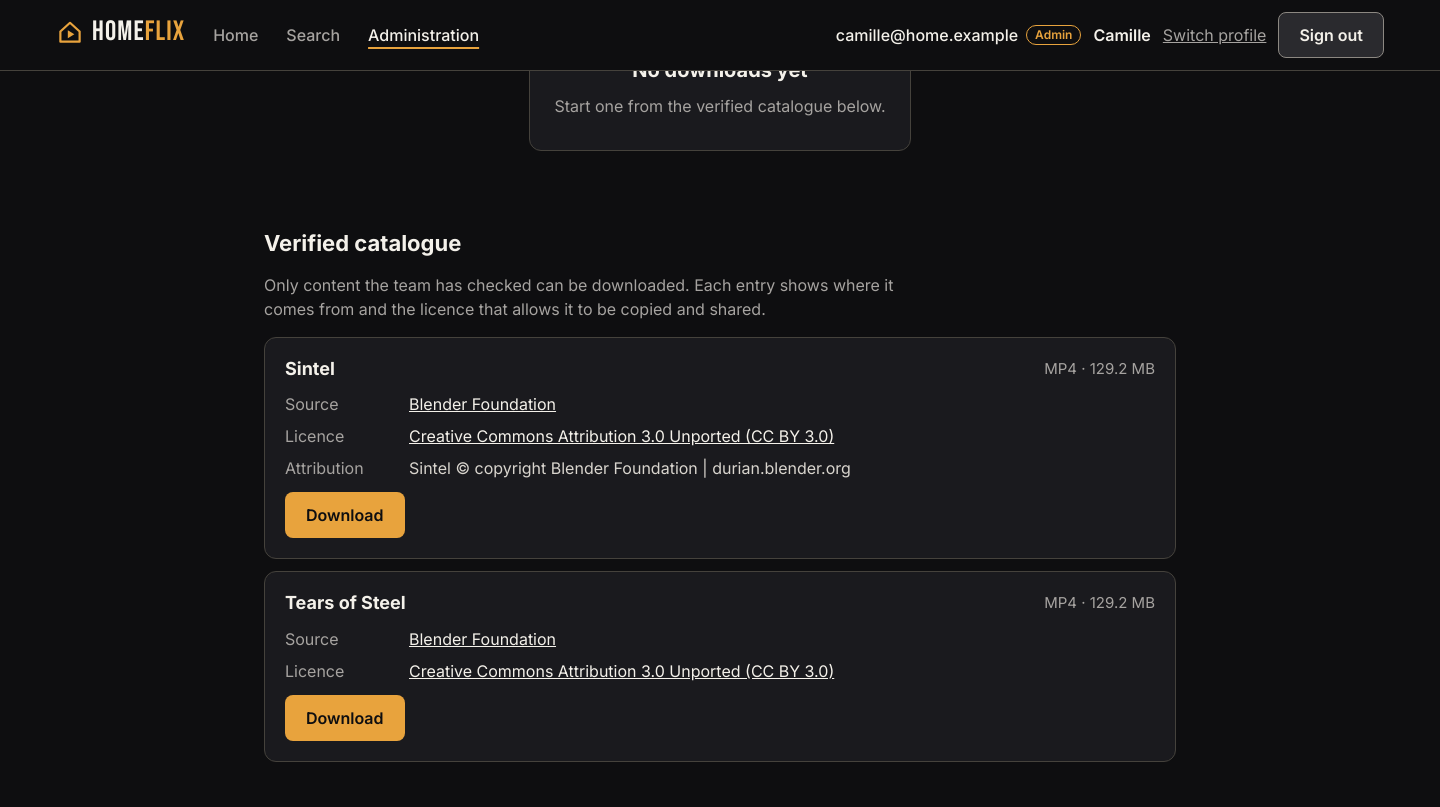
Test: DownloadsPage › moves focus to the outcome once the download has started and its button is disabled
(page scrolled)
Click the button with aria-label "Download Sintel" at (345, 515), box [285,492,404,538]
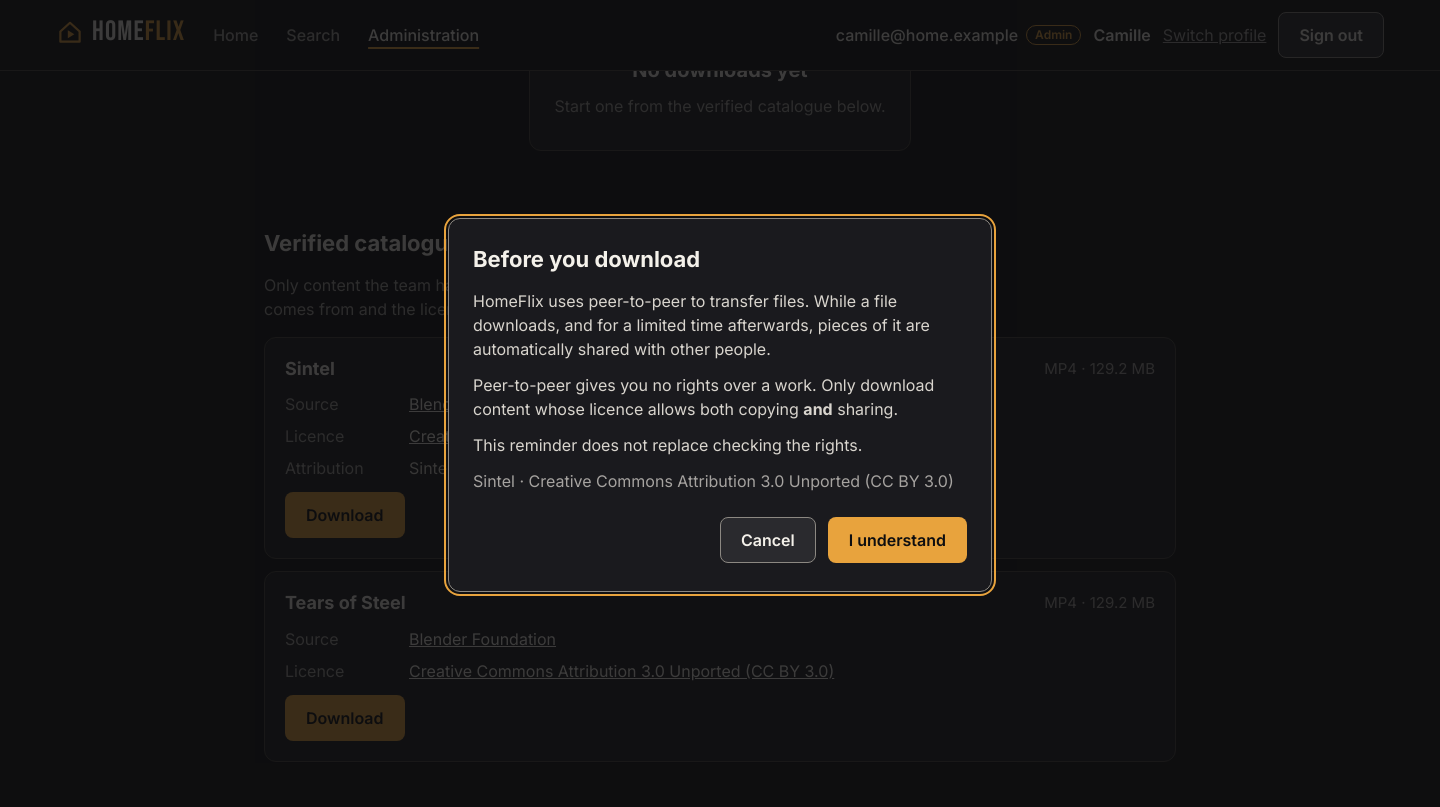
Click the button "I understand" at (897, 540), box [828,517,967,563]
(page scrolled)
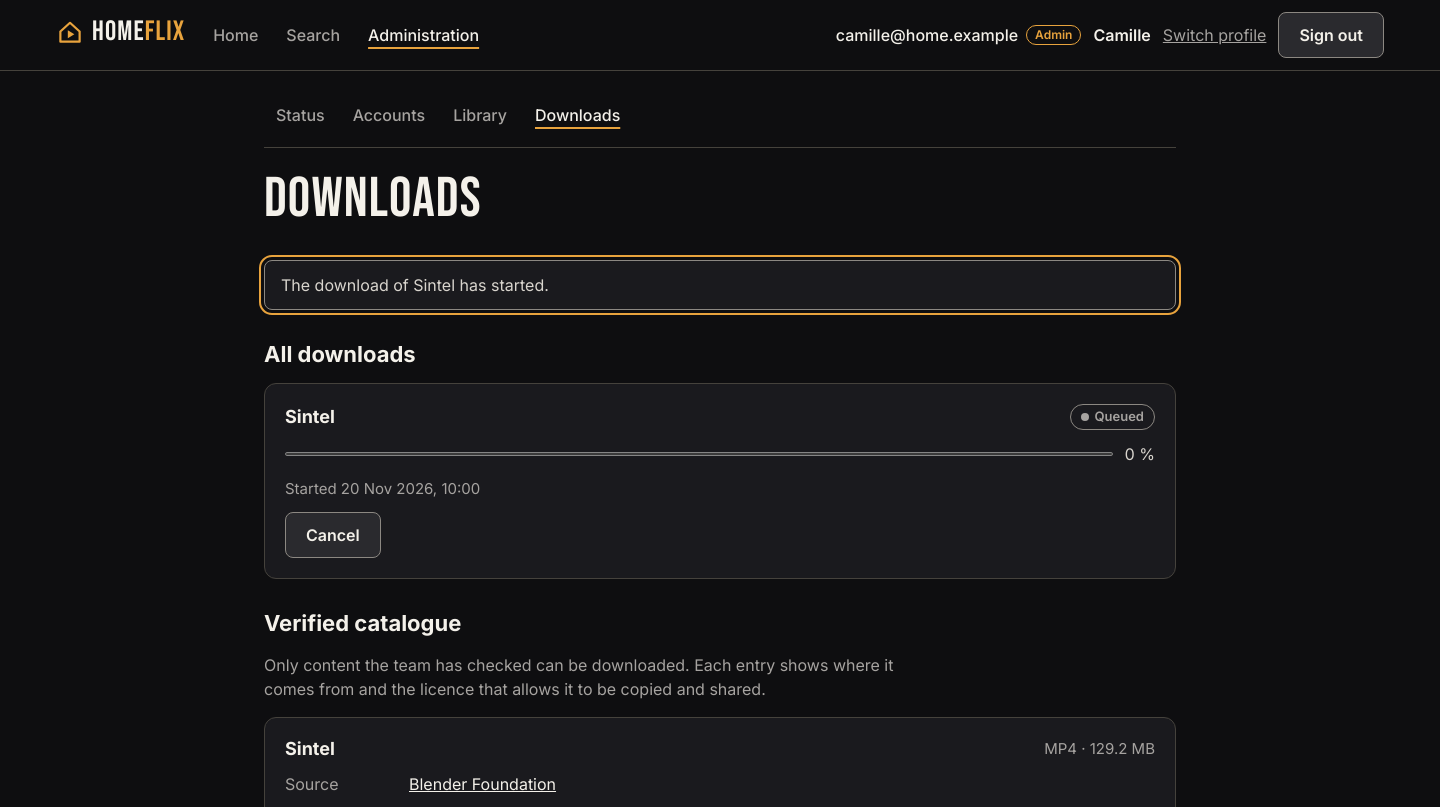
Now the message reads "The download of Sintel has started.", box [281,275,549,295]
